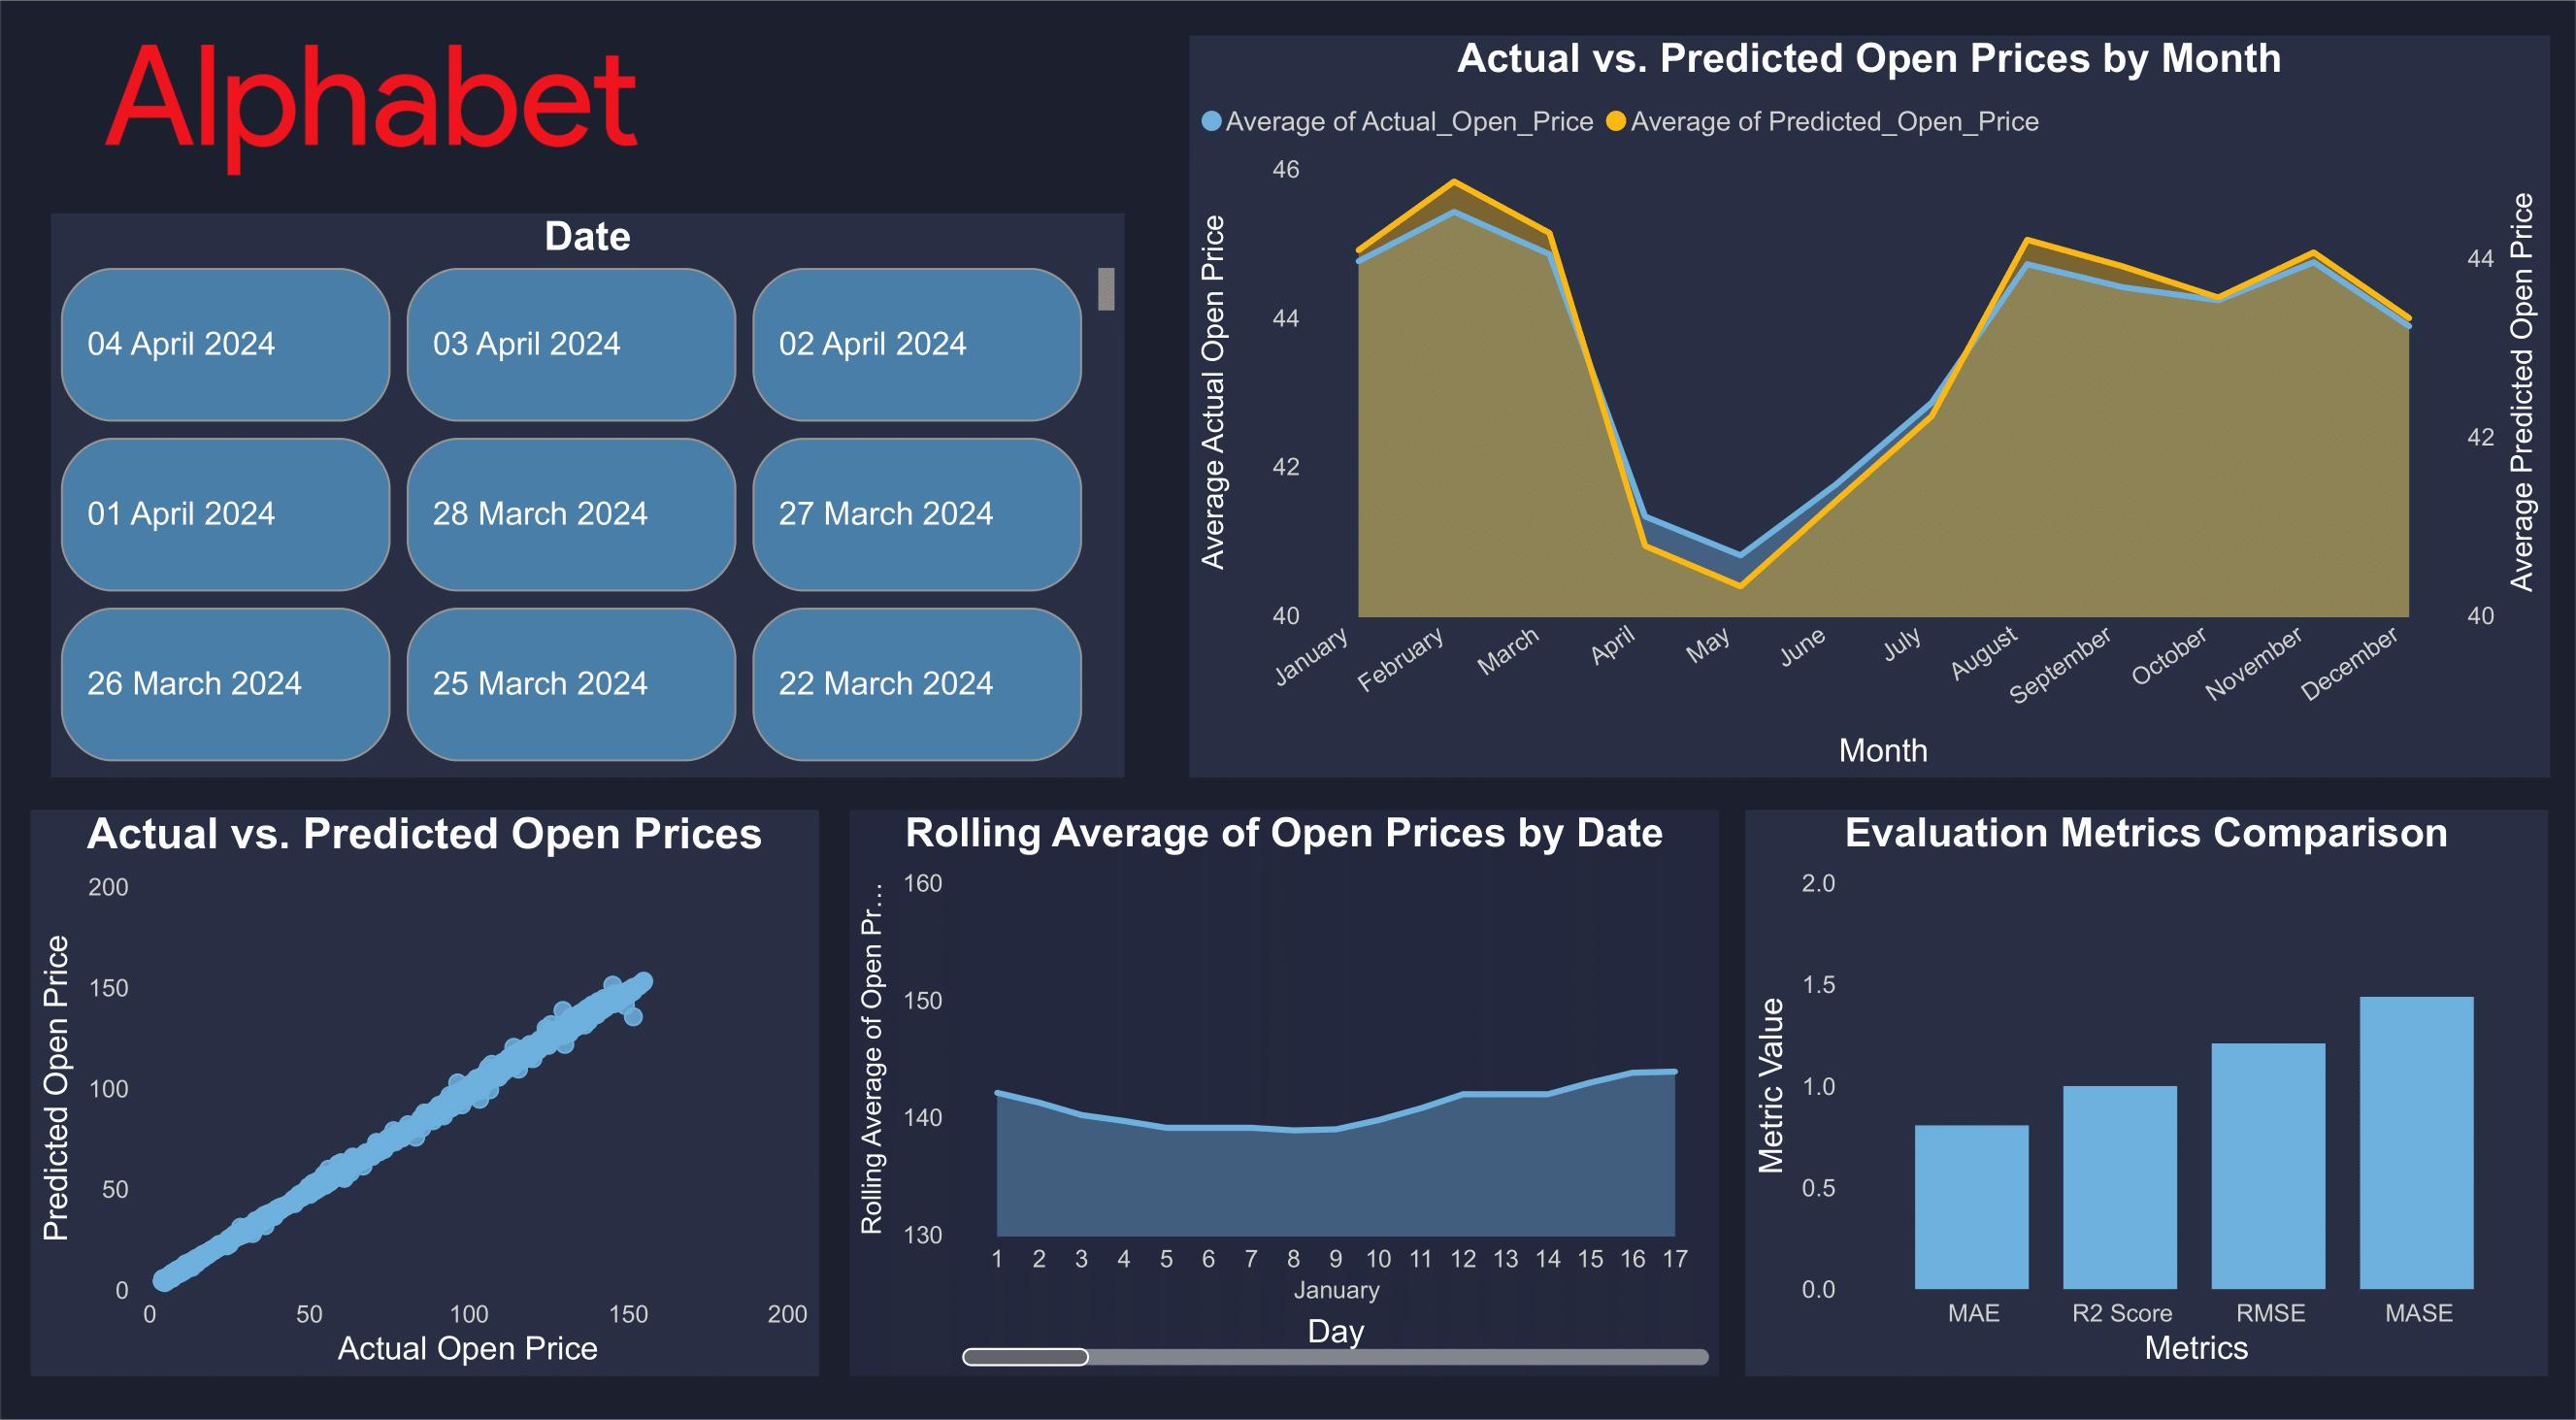

The page's visual inventory and layout, read from the dashboard file:
{"tool":"powerbi","page":{"name":"Page 1","canvas":[1280,720],"ordinal":0},"visuals":[{"type":"scatterChart","title":"Actual vs. Predicted Open Prices","fields":{"X":["stock_forecast.Actual_Open_Price"],"Y":["stock_forecast.Predicted_Open_Price"]},"box":[18.6,401.4,390,280],"z":0},{"type":"lineChart","title":"Actual vs. Predicted Open Prices by Month","fields":{"Category":["stock_forecast.Date.Variation.Date Hierarchy.Year","stock_forecast.Date.Variation.Date Hierarchy.Quarter","stock_forecast.Date.Variation.Date Hierarchy.Month","stock_forecast.Date.Variation.Date Hierarchy.Day"],"Y":["Avg(stock_forecast.Actual_Open_Price)"],"Y2":["Avg(stock_forecast.Predicted_Open_Price)"]},"box":[591.7,18.3,673.3,366.7],"z":1000},{"type":"lineChart","title":"Rolling Average of Open Prices by Date","fields":{"Y":["stock_forecast.Average of Actual_Open_Price rolling average"],"Category":["stock_forecast.Date.Variation.Date Hierarchy.Month","stock_forecast.Date.Variation.Date Hierarchy.Day"]},"box":[424.3,401.4,430,280],"z":2000},{"type":"image","box":[28.3,18.3,318.3,73.3],"z":3000},{"type":"clusteredColumnChart","title":"Evaluation Metrics Comparison","fields":{"Category":["Metrics.Metric"],"Y":["Sum(Metrics.Value)"]},"box":[867,401,397,280],"z":4000},{"type":"advancedSlicerVisual","fields":{"Values":["stock_forecast.Date"]},"box":[29.2,105.6,530.6,279.2],"z":5000}]}

Visuals, with their boxes in screenshot pixels (x1, y1, x2, y2), scaled from the page's 1280x720 canvas onto the 2576x1420 screenshot:
"Actual vs. Predicted Open Prices" scatterChart: x1=38 y1=792 x2=822 y2=1344
"Actual vs. Predicted Open Prices by Month" lineChart: x1=1191 y1=36 x2=2546 y2=759
"Rolling Average of Open Prices by Date" lineChart: x1=854 y1=792 x2=1719 y2=1344
image: x1=57 y1=36 x2=698 y2=181
"Evaluation Metrics Comparison" clusteredColumnChart: x1=1745 y1=791 x2=2544 y2=1343
advancedSlicerVisual - stock_forecast.Date: x1=59 y1=209 x2=1127 y2=759
